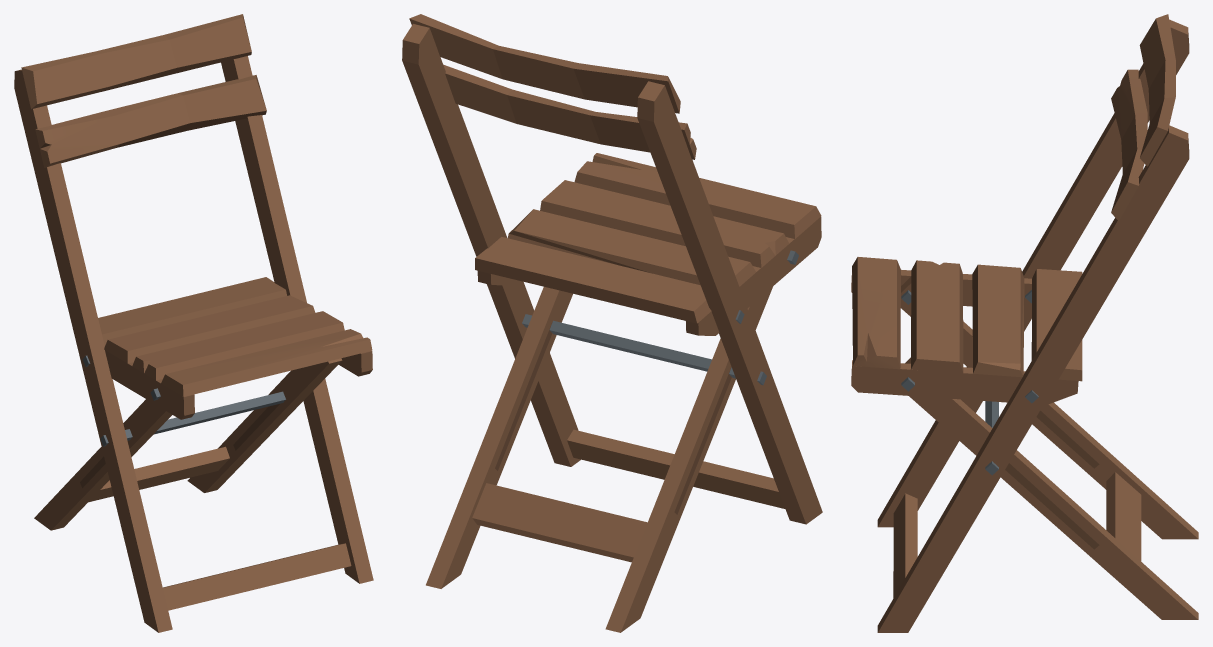
The model's file is SM_Prop_Cafe_Chair_Folding_02.obj.
3 renders of one model, left to right at view 1: azimuth 30°, elevation 25°; view 2: azimuth 150°, elevation 25°; view 3: azimuth 270°, elevation 25°, orthographic. The views are drawn at different scales.
Visible parts, largest first — view 1: SM_Prop_Cafe_Chair_Folding_02_0; view 2: SM_Prop_Cafe_Chair_Folding_02_0; view 3: SM_Prop_Cafe_Chair_Folding_02_0.
Part boxes in pixels (x1,y1,x2,y2): SM_Prop_Cafe_Chair_Folding_02_0: (14, 14, 373, 632); SM_Prop_Cafe_Chair_Folding_02_0: (402, 14, 822, 632); SM_Prop_Cafe_Chair_Folding_02_0: (851, 14, 1198, 632).
Size of the model in its own units: 0.4695 by 0.9473 by 0.59.
Materials: 1 (1 with a texture image).
